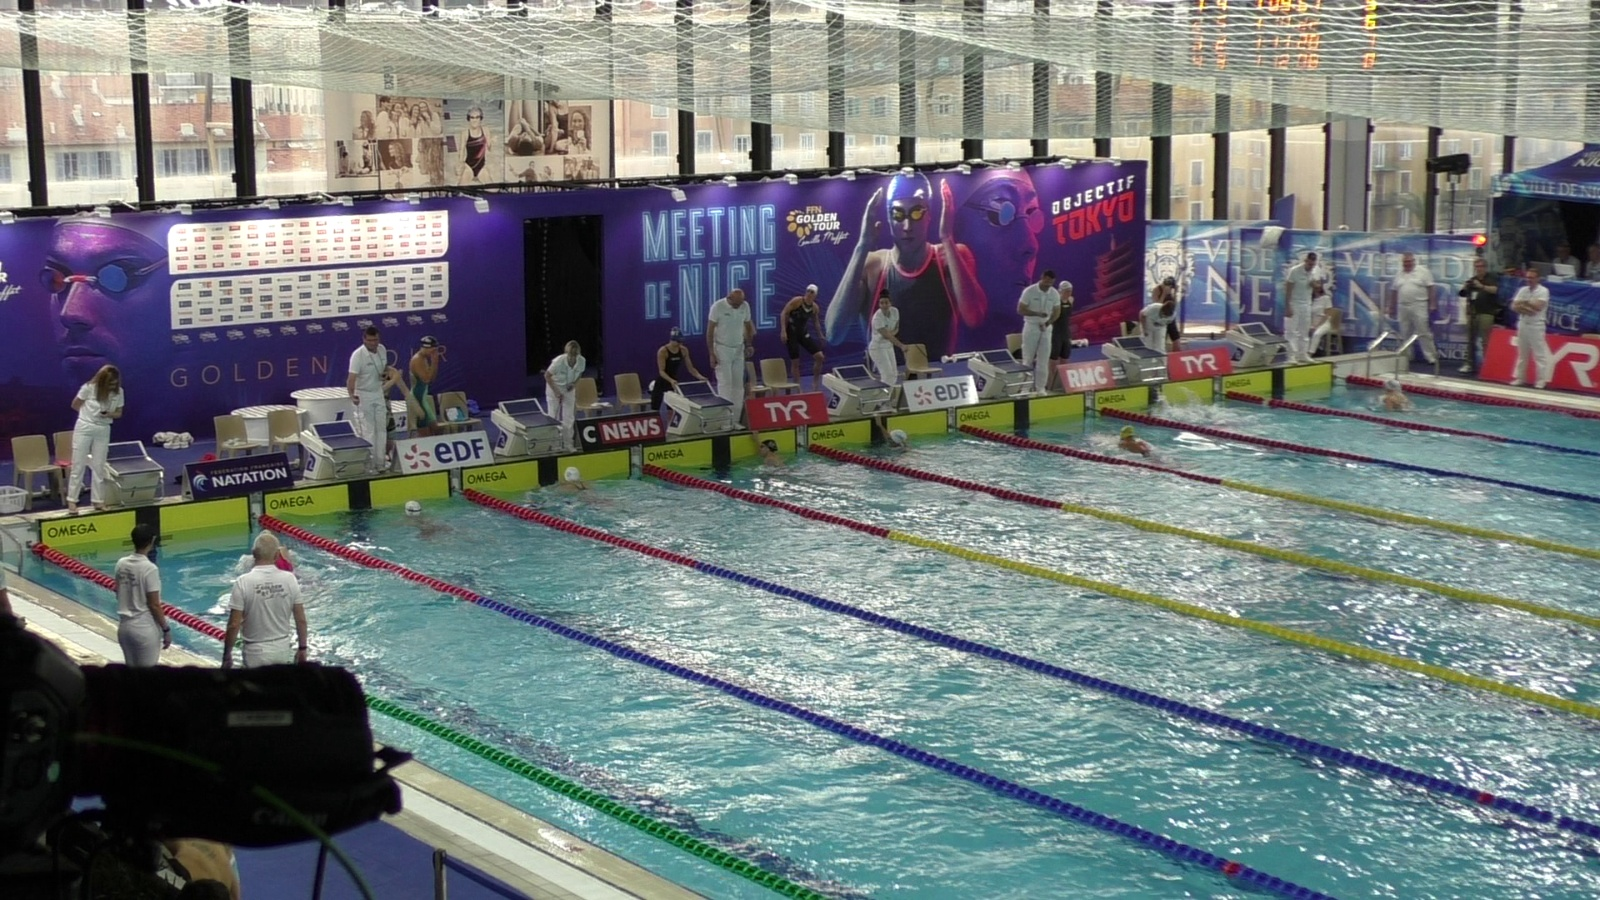swimmerwdd: (393, 497, 493, 555), (549, 462, 647, 521), (234, 541, 313, 609), (749, 432, 818, 487), (1114, 427, 1193, 475), (1155, 395, 1251, 433), (1375, 379, 1449, 416), (870, 420, 929, 463)
